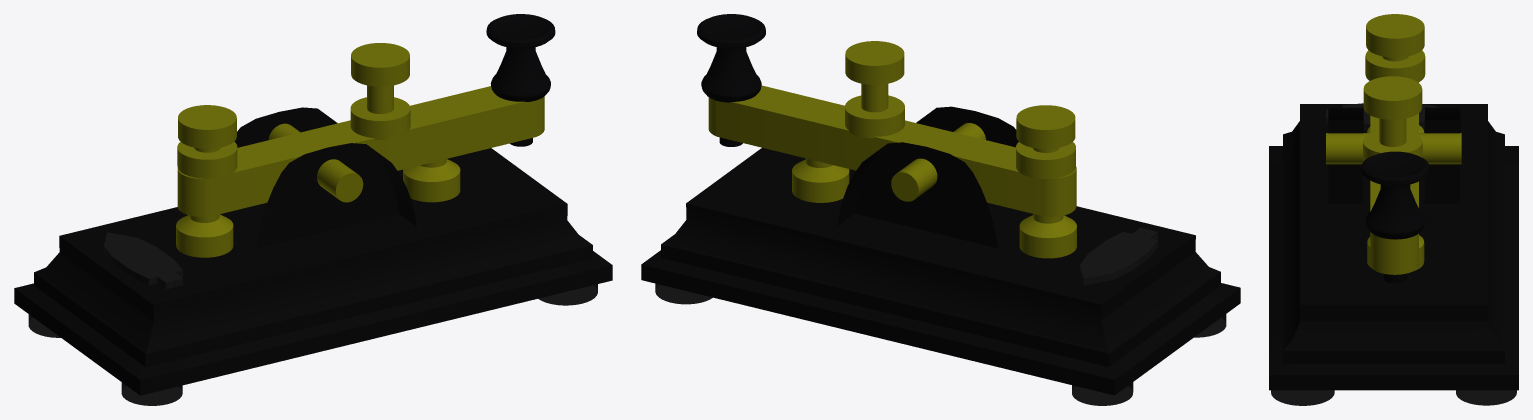
Rendered from telegrafo.obj.
3 renders of one model, left to right at view 1: azimuth 30°, elevation 25°; view 2: azimuth 150°, elevation 25°; view 3: azimuth 270°, elevation 25°, orthographic.
Parts seen in each view (by area): view 1: Cube_Cube.001; view 2: Cube_Cube.001; view 3: Cube_Cube.001.
Part boxes in pixels (x1,y1,x2,y2): Cube_Cube.001: (14,14,612,405); Cube_Cube.001: (641,14,1240,405); Cube_Cube.001: (1269,14,1518,405).
Bounding box in the file's own units: 2.61 × 1.25 × 1.2.
